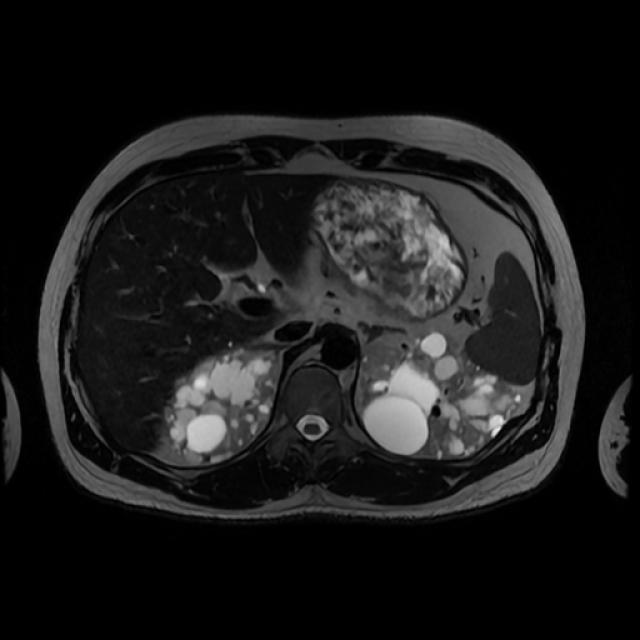sag: (165, 347, 281, 467)
sol: (358, 331, 522, 462)
